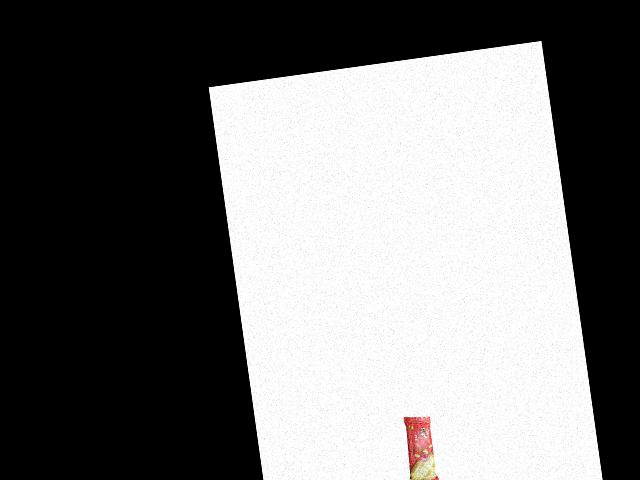chocolate: (396, 408, 440, 480)
